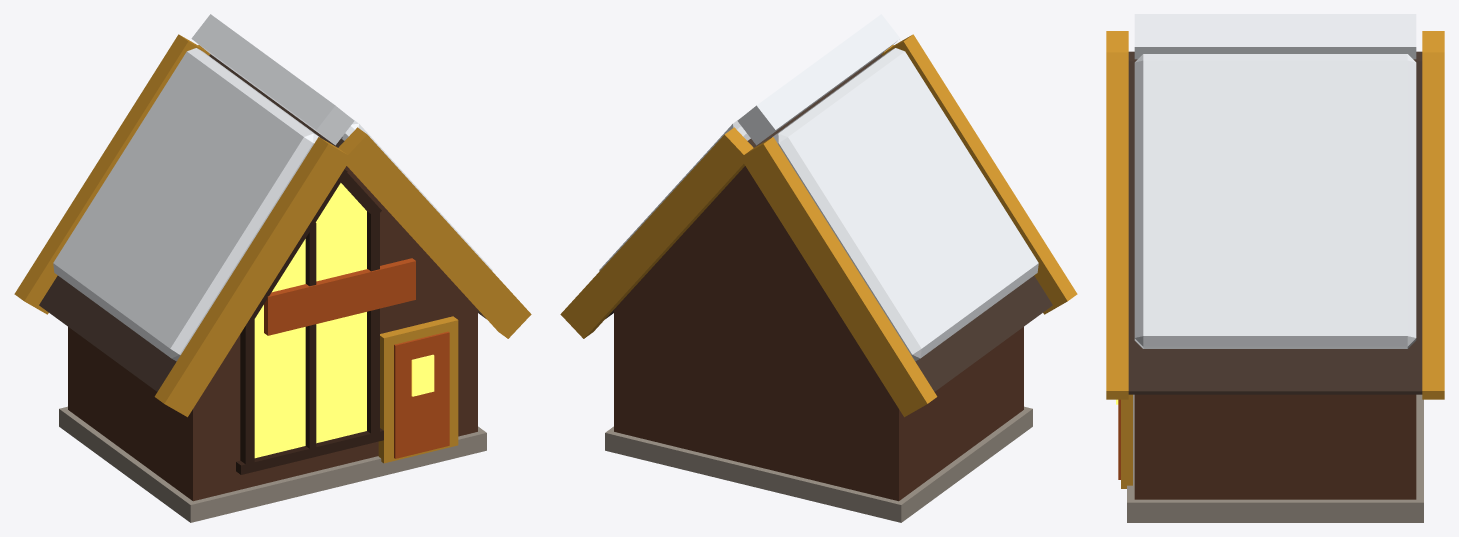
File: ski-school-desk-chalet70s.glb
The picture shows the model from 3 angles, left to right: view 1: azimuth 30°, elevation 25°; view 2: azimuth 150°, elevation 25°; view 3: azimuth 270°, elevation 25°; orthographic projection. The views are drawn at different scales.
Parts seen in each view (by area): view 1: ski-school-desk-chalet70s; view 2: ski-school-desk-chalet70s; view 3: ski-school-desk-chalet70s.
Boxes of the visible parts, left/top/right/bottom form: ski-school-desk-chalet70s: left=14, top=14, right=531, bottom=522; ski-school-desk-chalet70s: left=560, top=14, right=1077, bottom=522; ski-school-desk-chalet70s: left=1106, top=14, right=1444, bottom=522.
Bounding box in the file's own units: 6.45 × 6.36 × 4.56.
